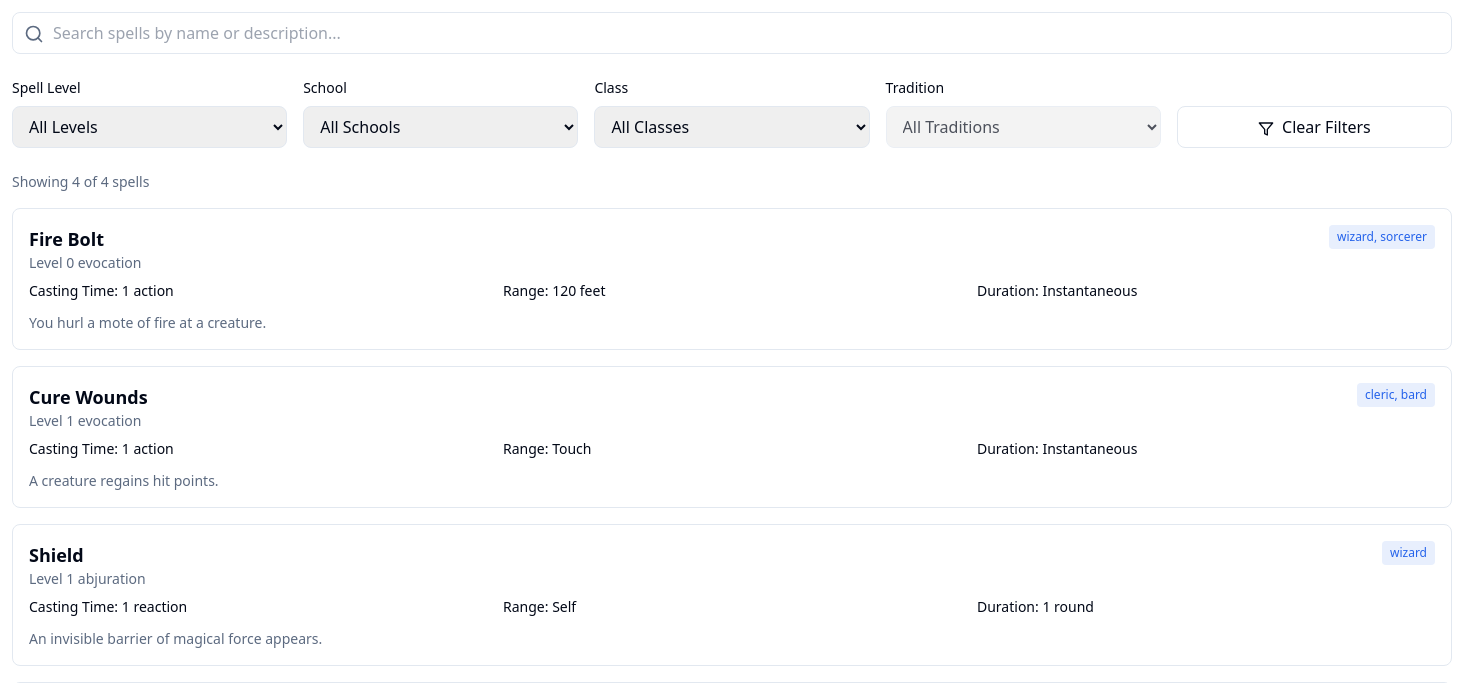
Test: SpellBrowser › filters spells by level
The width and height of the screenshot is (1464, 683).
Select "Level 1" in the dropdown named "Filter by spell level" at (150, 127), box x1=12 y1=106 x2=287 y2=148
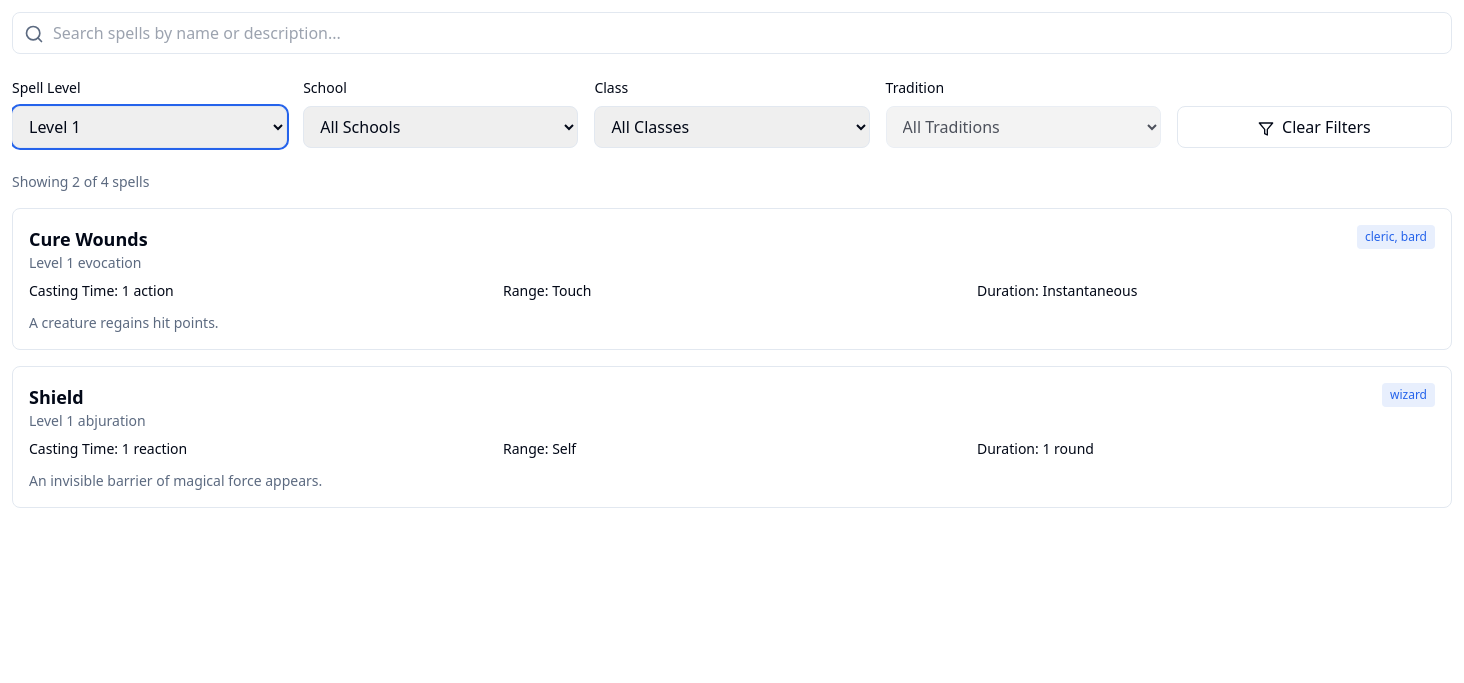
Expected: the heading "Cure Wounds" is shown, x1=29 y1=225 x2=148 y2=253
Expected: the text "Showing 2 of 4 spells" is shown, x1=12 y1=172 x2=150 y2=191
